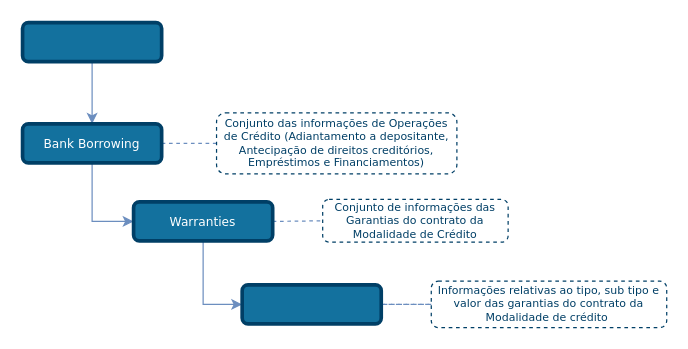
The diagram is 688 pixels wide and 349 high, and some of its shapes have lost their labels. The shapes that lost their labels are listed below. From the top down, each one's centre as x and y in pixels, then its label:
At [91,41]: "Data".
At [311,303]: "Contracted Warranties".
